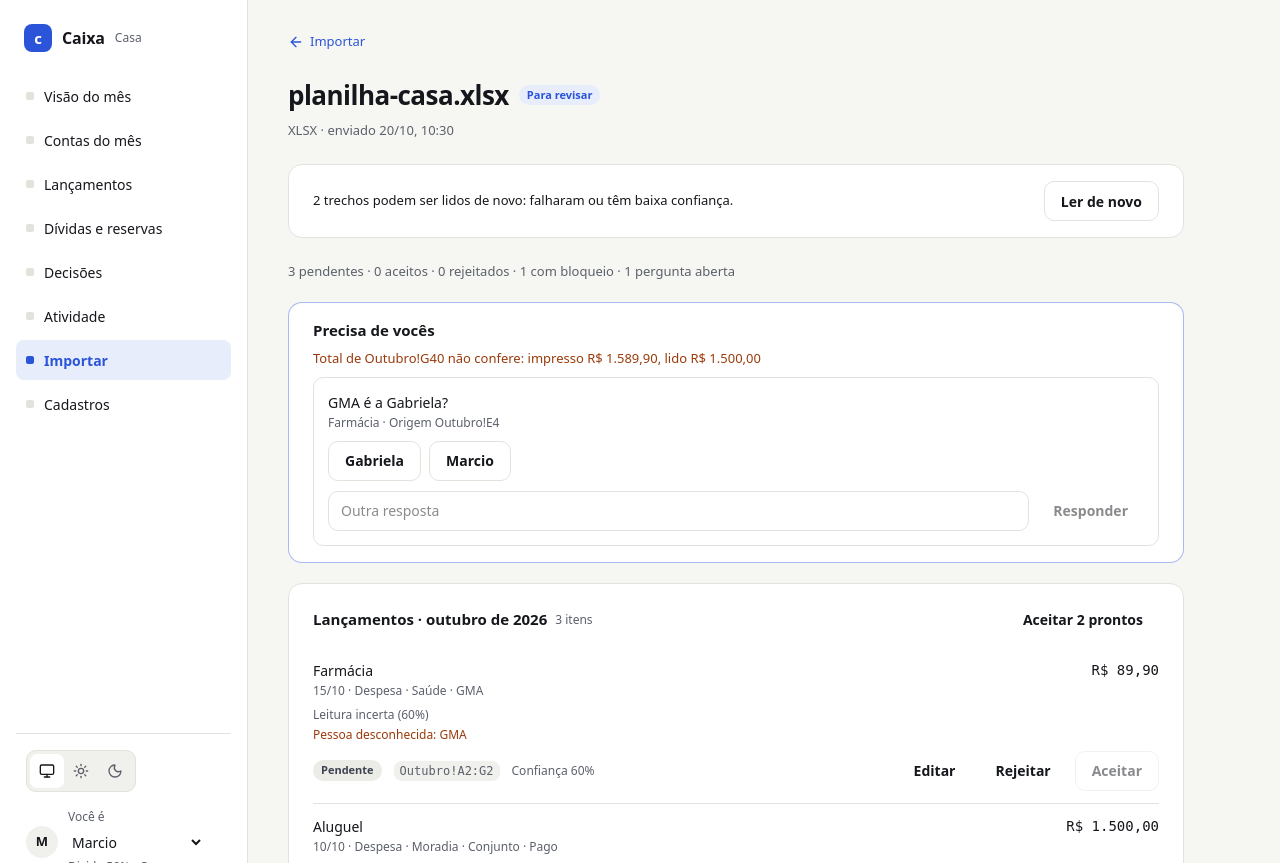
Scenario: explains a retry the API refuses
Check: the text "2 trechos podem ser lidos de novo: falharam ou têm baixa confiança." is shown, box [313,191,733,209]
Click the button "Ler de novo" at (1101, 201), box [1044,181,1159,221]
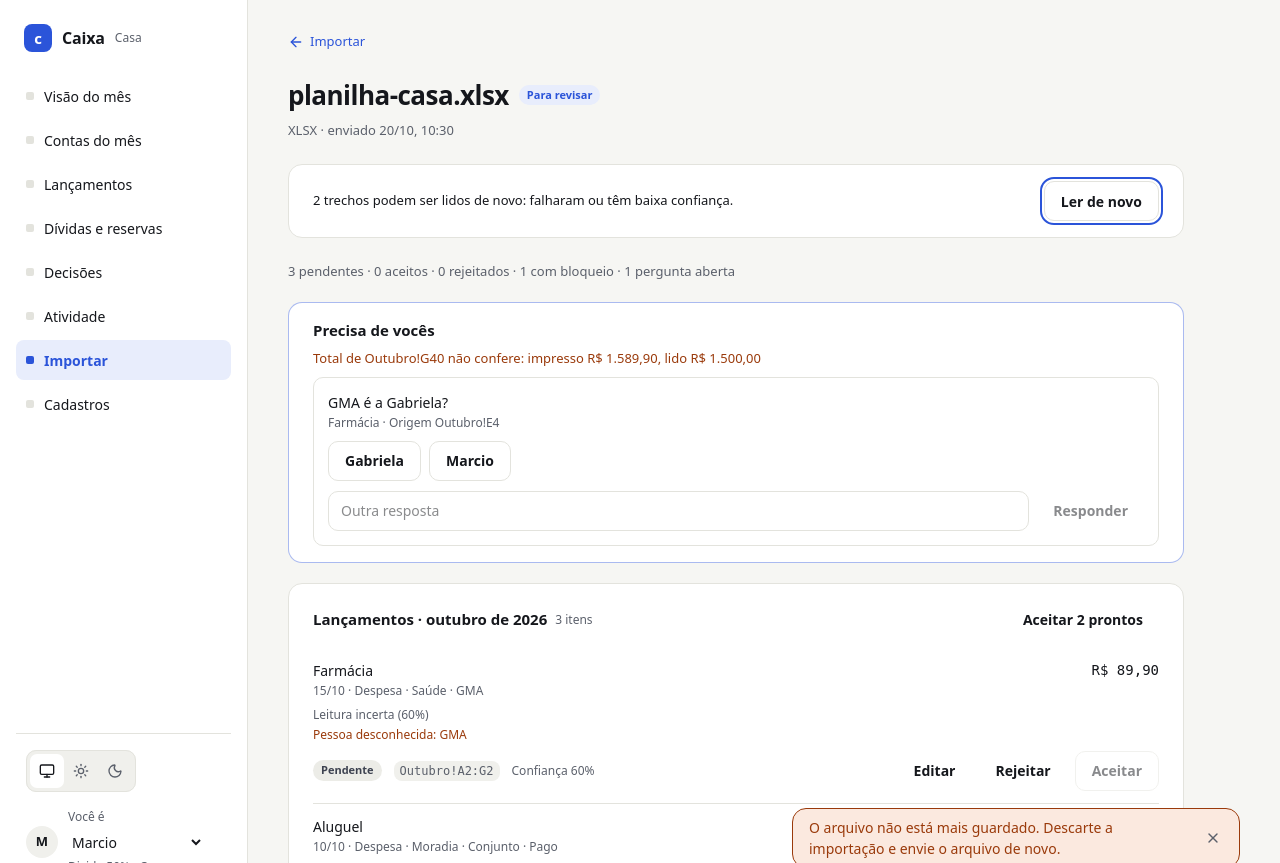
Check: the text "Farmácia" is shown, box [313,660,373,680]
Check: the text "O arquivo não está mais guardado. Descarte a importação e envie o arquivo de novo." is shown, box [809,818,1113,858]
